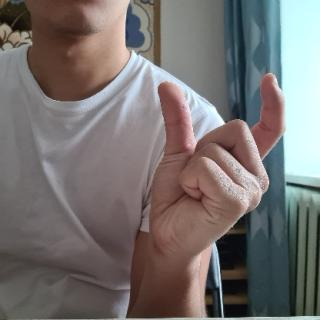NOON: (138, 70, 292, 268)
